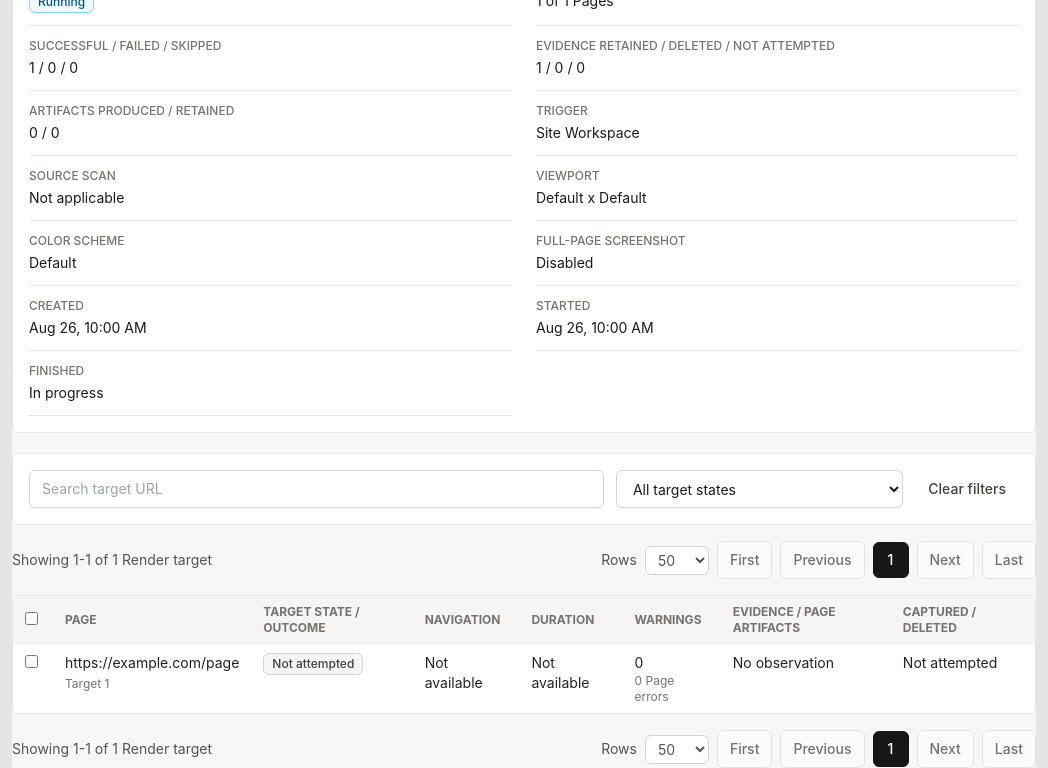
rendered evidence deletion › does not offer target evidence deletion while a Run is active
(page scrolled)
What coordinates should you click on to do the following:
click the checkbox named "Select https://example.com/page"
I would click on:
 (32, 662)
Its box is [25,655,38,668].
(page scrolled)
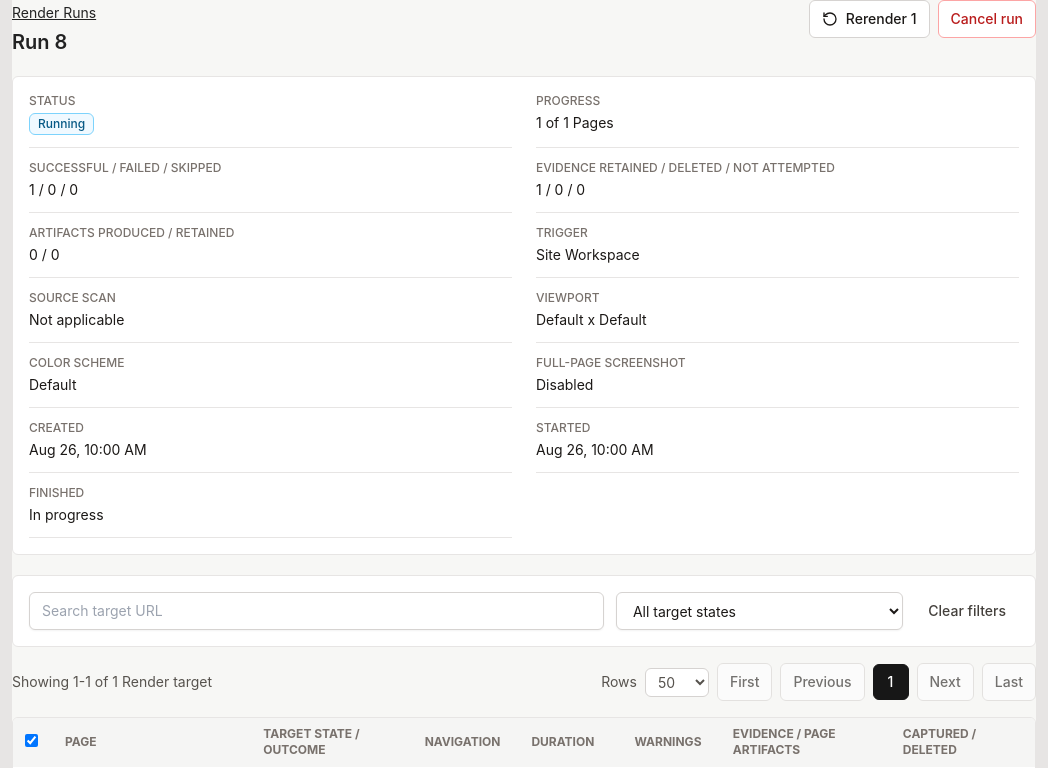
expect the button "Cancel run" is shown: met, box [938,0,1036,38]
expect the button "Rerender 1" is shown: met, box [809,0,930,38]
